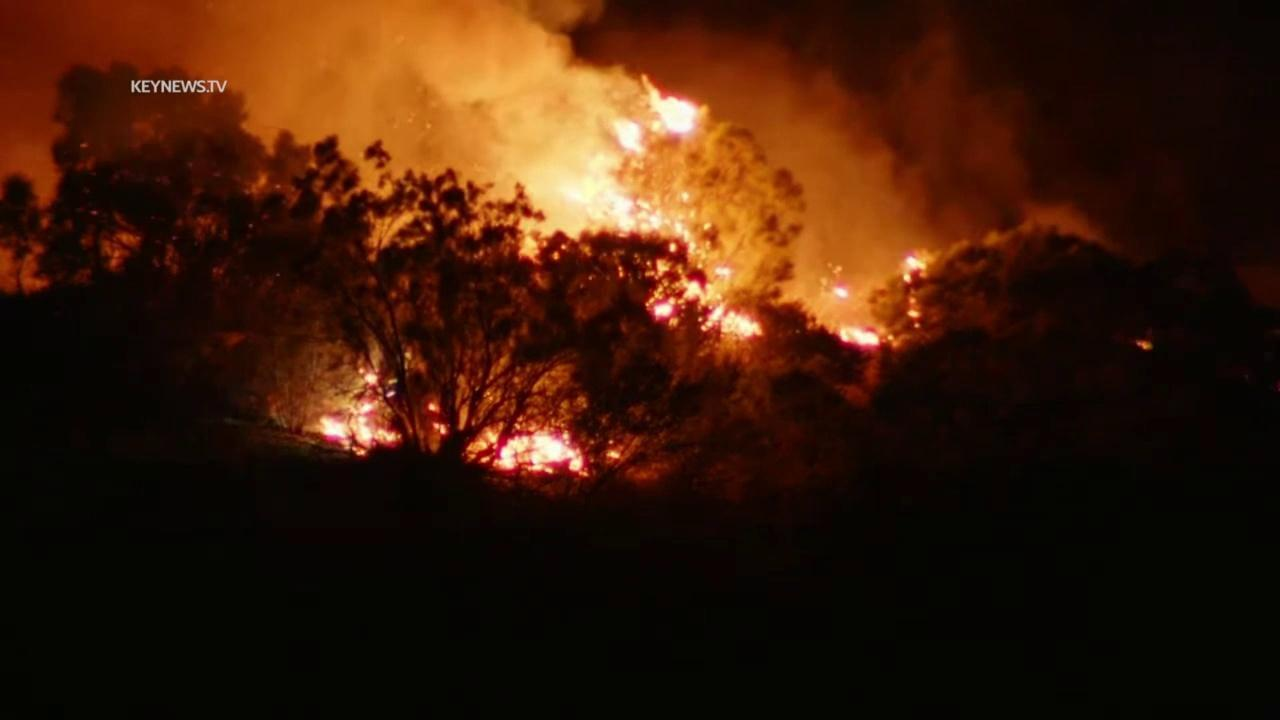fire: (586, 95, 766, 339), (319, 366, 408, 457), (484, 407, 590, 475), (899, 252, 930, 331), (836, 324, 882, 346), (432, 420, 452, 437), (604, 448, 624, 462), (833, 286, 850, 301), (426, 400, 441, 413), (1136, 340, 1153, 350)
smoke: (0, 0, 1125, 348)
